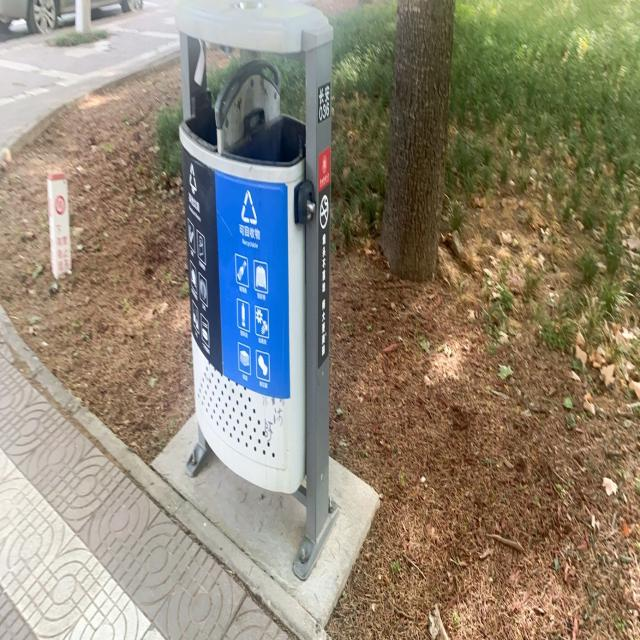garbage_bin: (174, 2, 337, 585)
